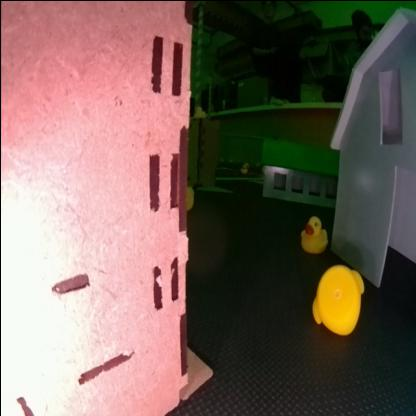Duckie: (312, 264, 364, 330), (302, 214, 328, 252), (186, 184, 194, 208), (194, 105, 206, 115), (240, 164, 248, 172)
